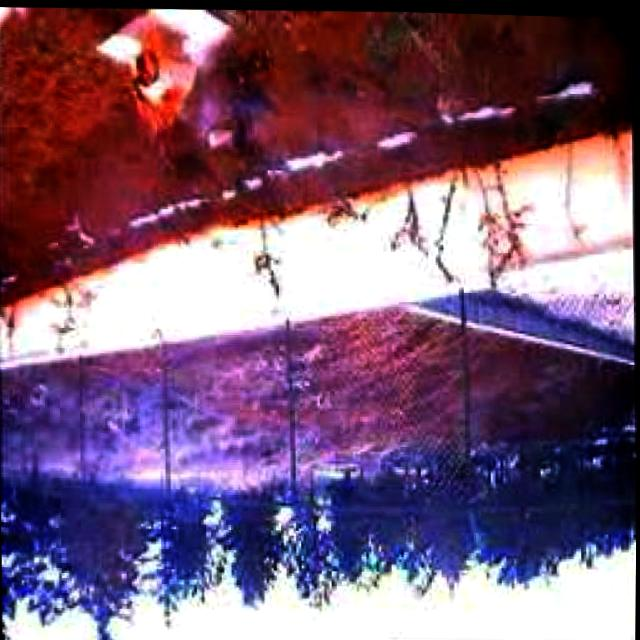helmet: (126, 20, 199, 149)
